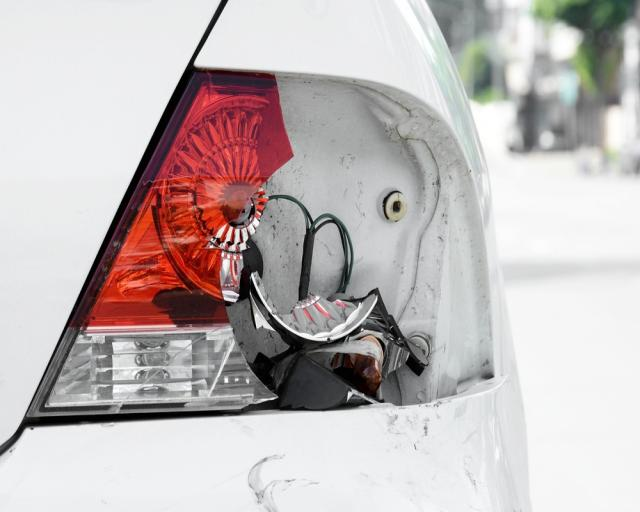lamp broken: (30, 71, 491, 420)
scratch: (242, 450, 323, 512)
